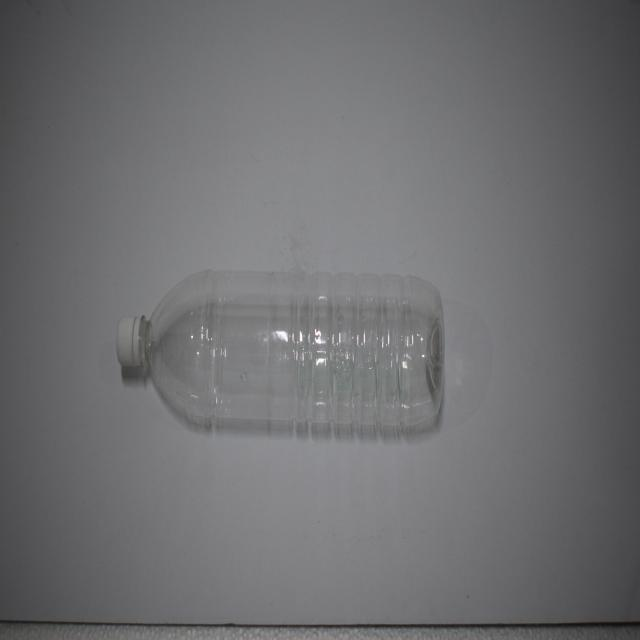bottle: (84, 255, 462, 455)
